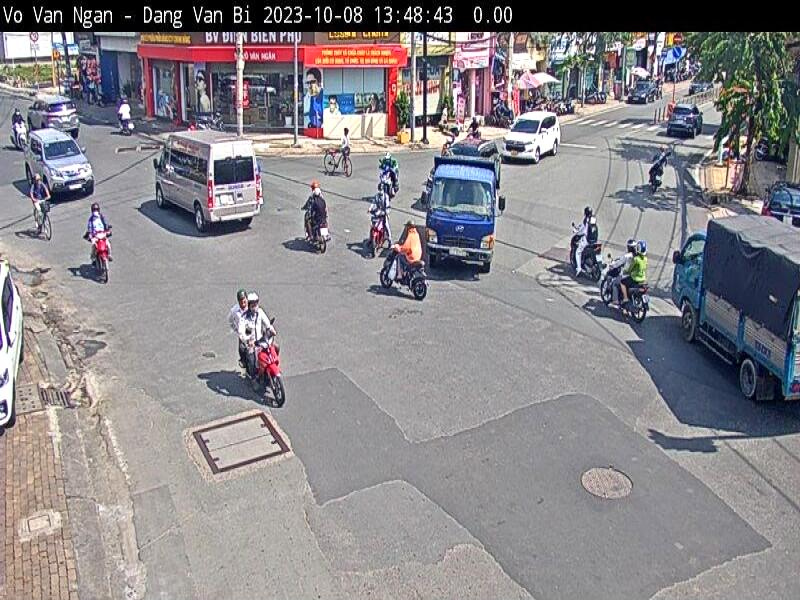car: (146, 120, 274, 244), (10, 122, 97, 216), (2, 246, 27, 455), (21, 89, 94, 150), (500, 111, 561, 164), (762, 181, 800, 225), (667, 104, 703, 140), (628, 81, 661, 105)
motorcycle: (223, 320, 304, 407), (600, 256, 650, 322), (380, 243, 427, 302), (569, 223, 606, 284), (86, 226, 114, 280), (310, 223, 330, 254)
truck: (669, 213, 800, 405), (417, 144, 513, 295)
